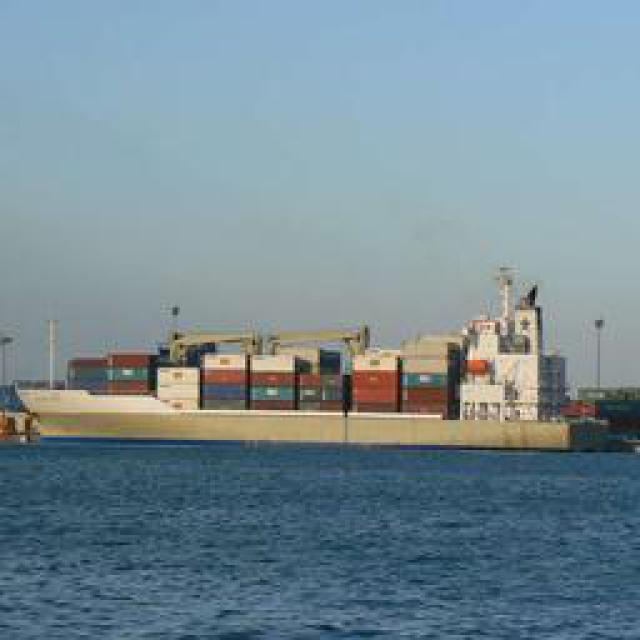Ship: (17, 290, 617, 453)
